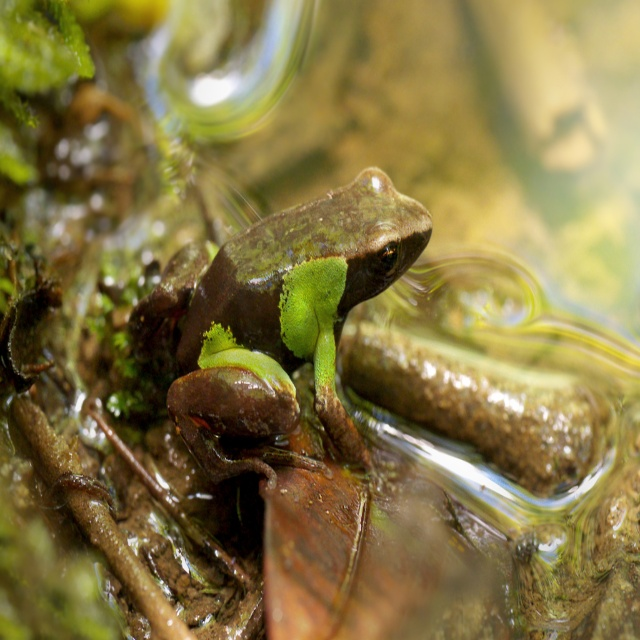Frog: (126, 167, 431, 492)
